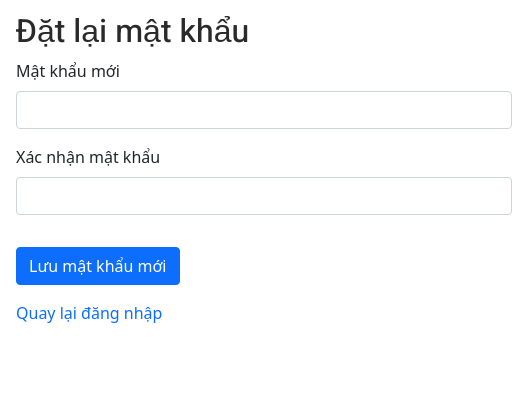
reset posts the token with a new password and prevents a replay from the form
Type "NewPassword123!" into the password field labelled "Mật khẩu mới". click: (264, 110)
box: [16, 91, 512, 129]
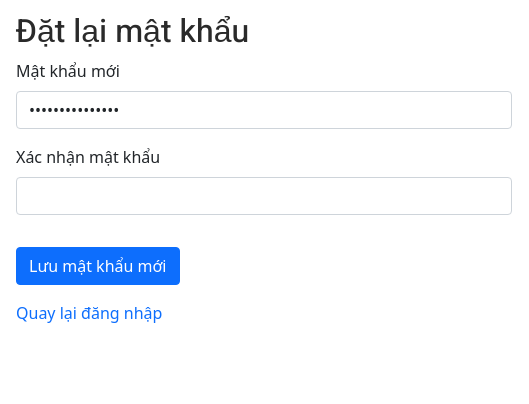
Type "NewPassword123!" into the password field labelled "Xác nhận mật khẩu". click: (264, 196)
box: [16, 177, 512, 215]
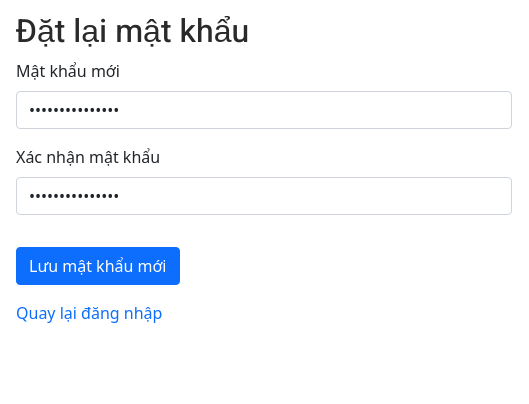
Click the button. click: (98, 266)
box: [16, 247, 180, 285]
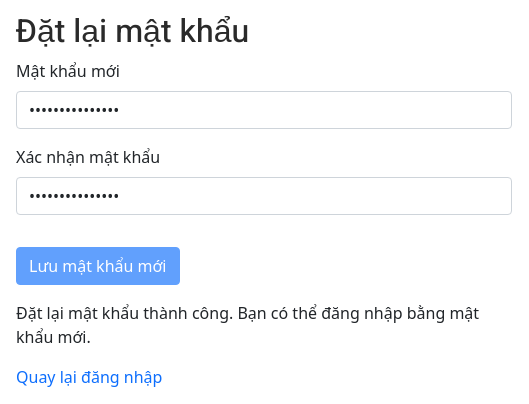
Check: the message shows "thành công", box [16, 302, 479, 348]
Check: the button is disabled, box [16, 247, 180, 285]
